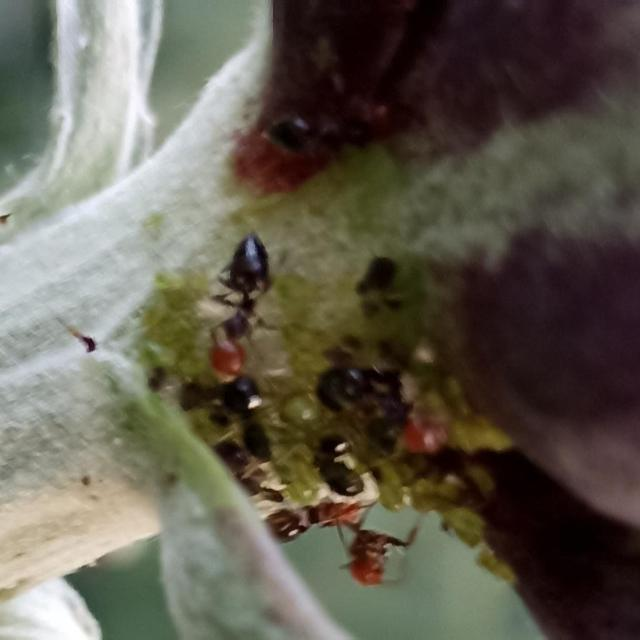Crematogaster: (182, 239, 278, 381), (249, 84, 417, 162), (325, 520, 419, 596)
